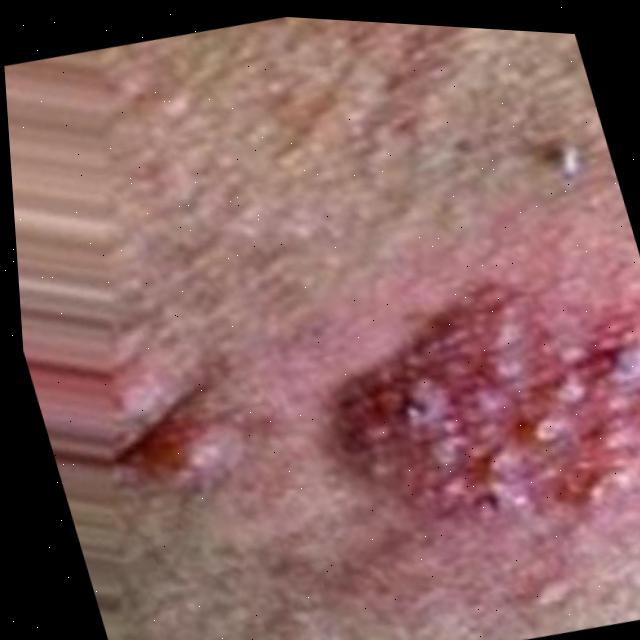Shingles: (302, 234, 640, 584)
